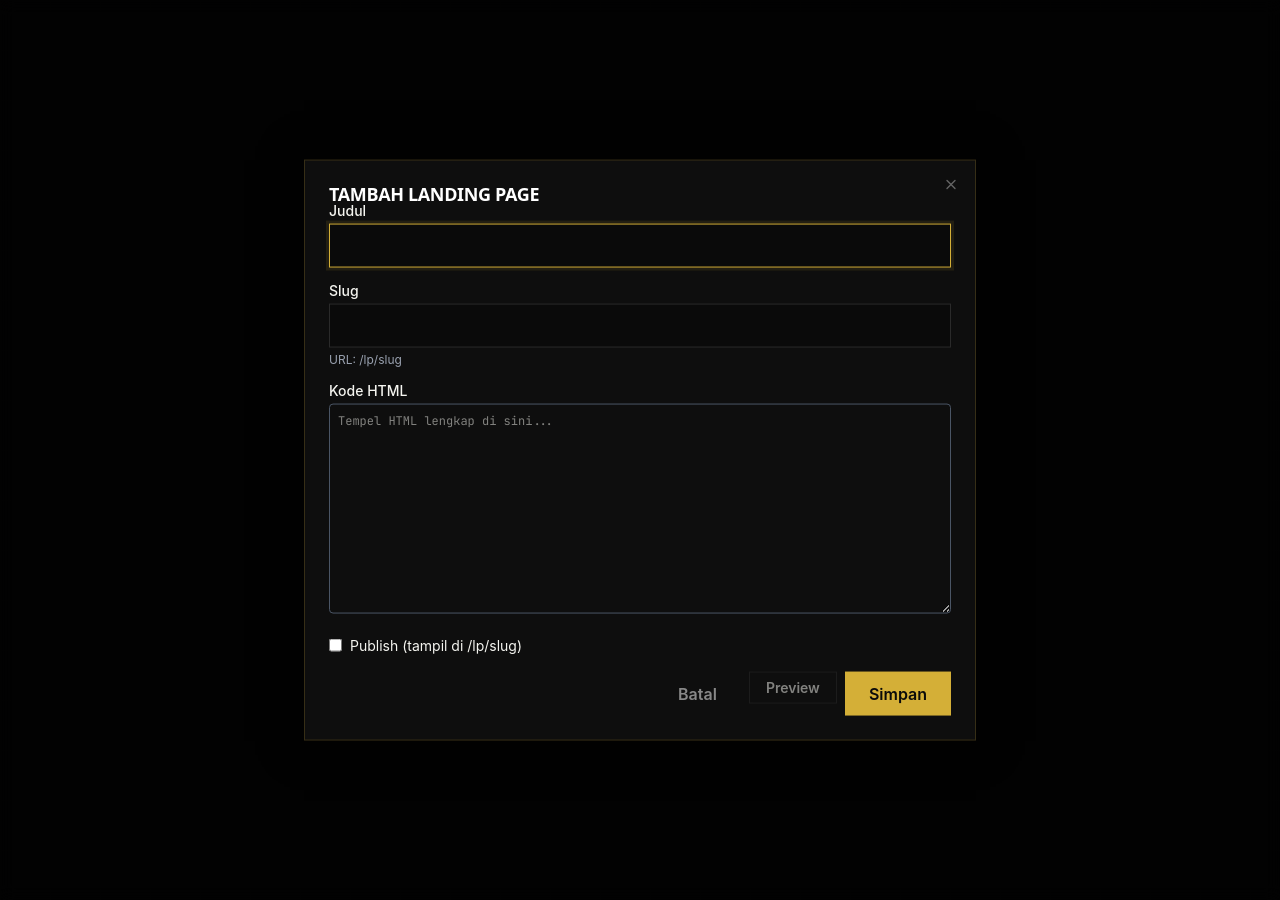
Test: LandingDialog › auto-generate slug dari judul saat mode tambah
Type "Cuan Dari AI" into the field labelled "Judul". click: (640, 245)
box: [329,223,951,267]
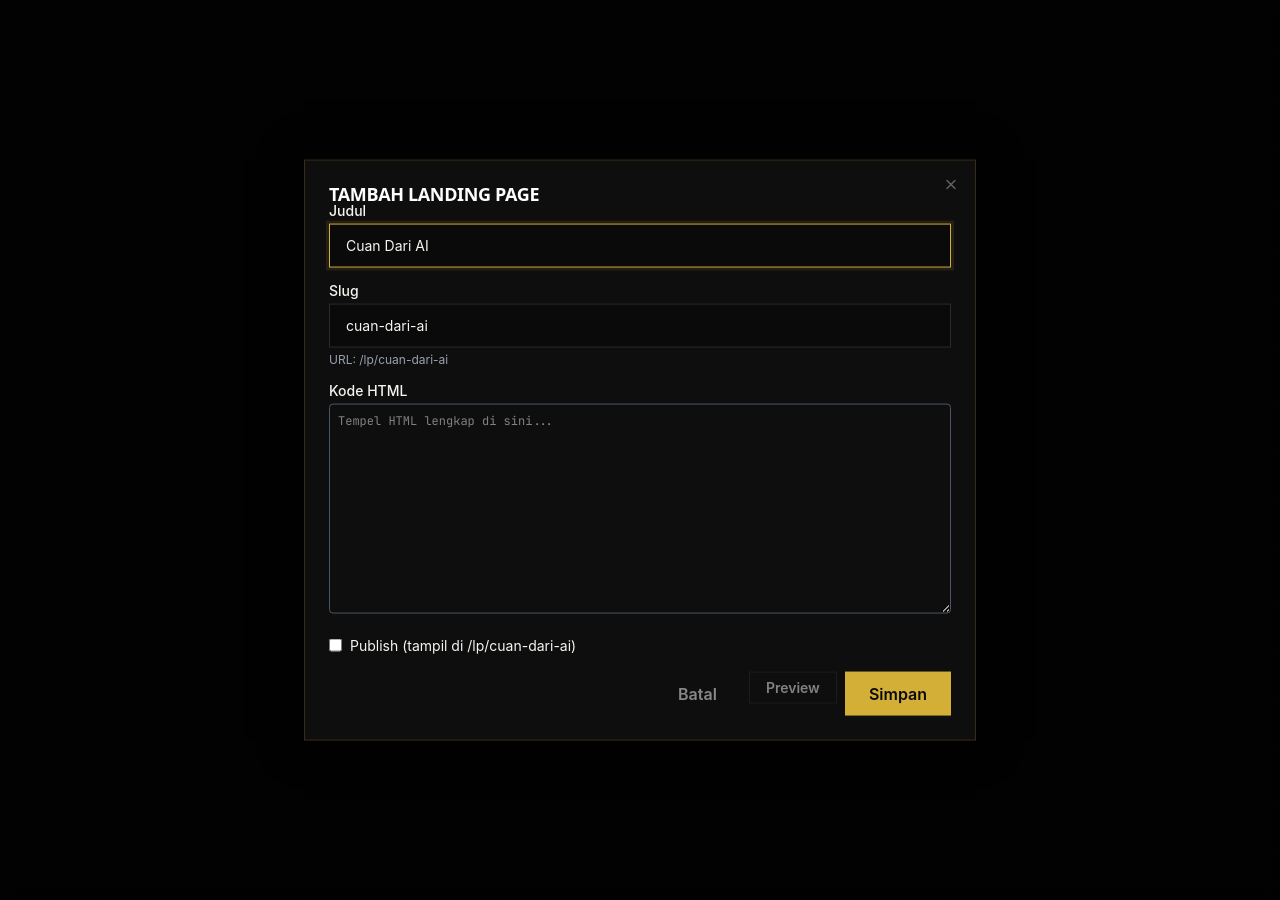
Check: the field labelled "Slug" holds "cuan-dari-ai", box [329,303,951,347]
